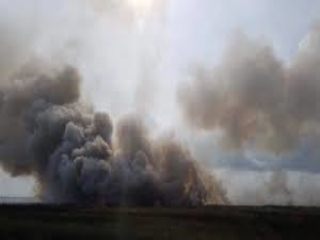smoke: (2, 64, 196, 212)
